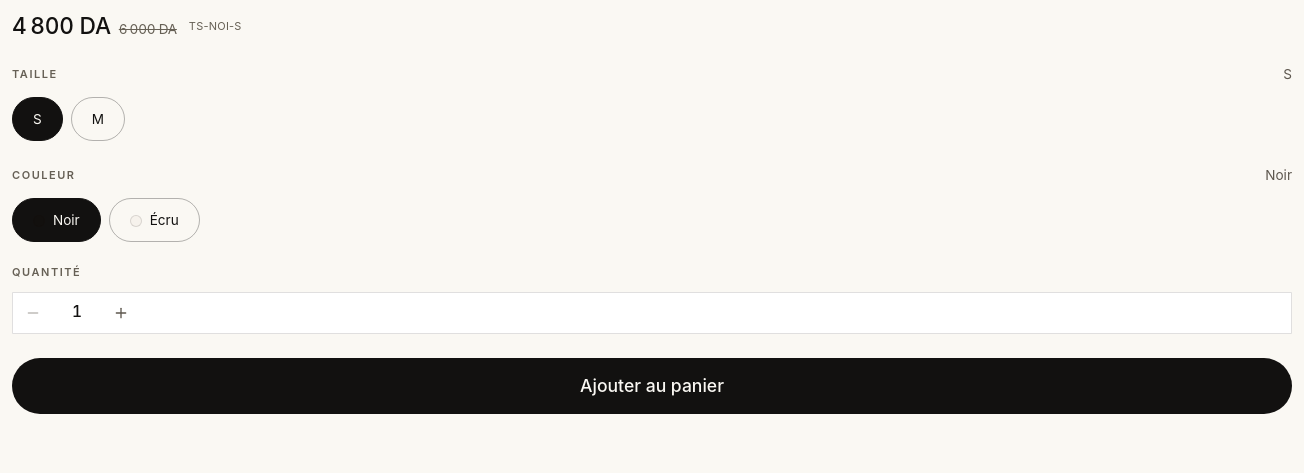
it: PurchasePanel › shows the selected variant’s own price, not the product base price
Expected: the text "4 800 DA" is shown, [12,12,111,40]
Click the radio button labelled "Écru".
click(154, 220)  # box [109,198,200,242]
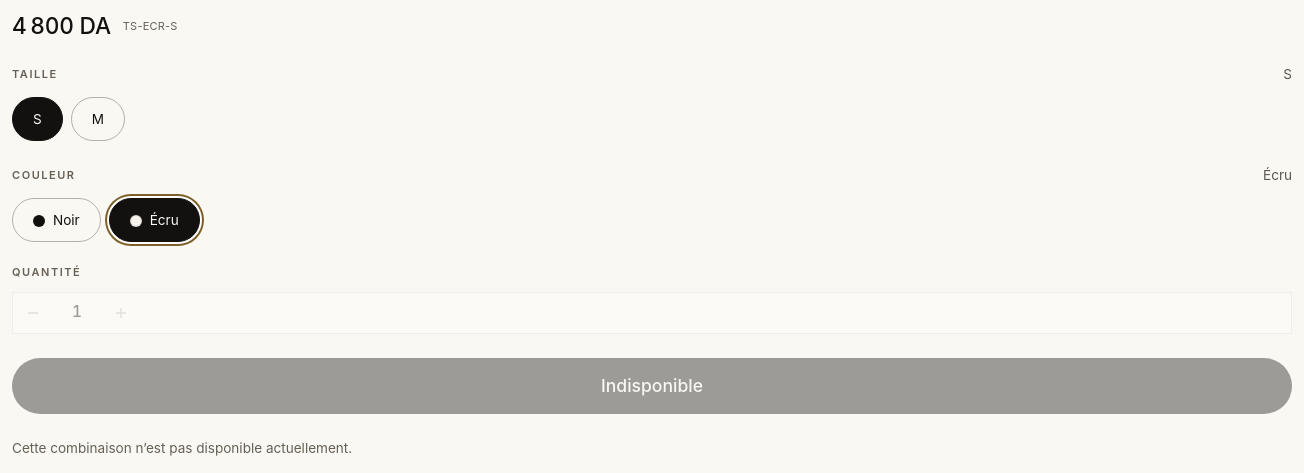
Click the radio button labelled "M".
click(98, 119)  # box [71,97,125,141]
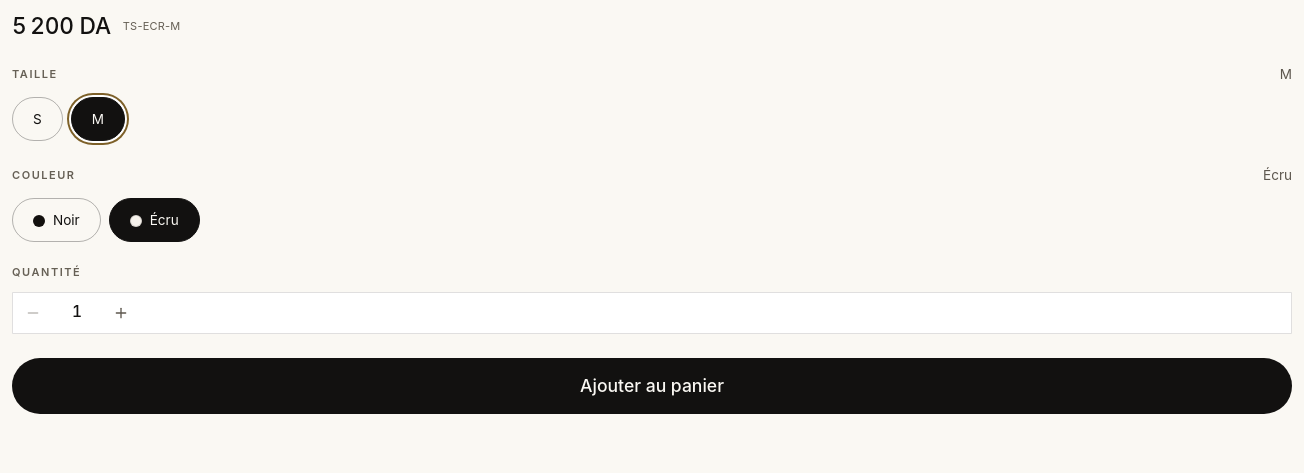
Result: the text "5 200 DA" is shown at [12,12,111,40]
Result: the text "TS-ECR-M" is shown at [123,19,180,34]
